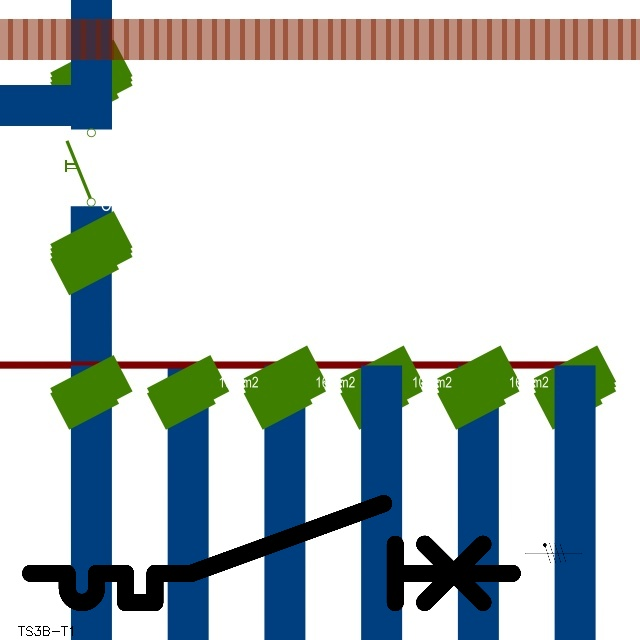interruptor_termomagnetico: (18, 491, 524, 615)
